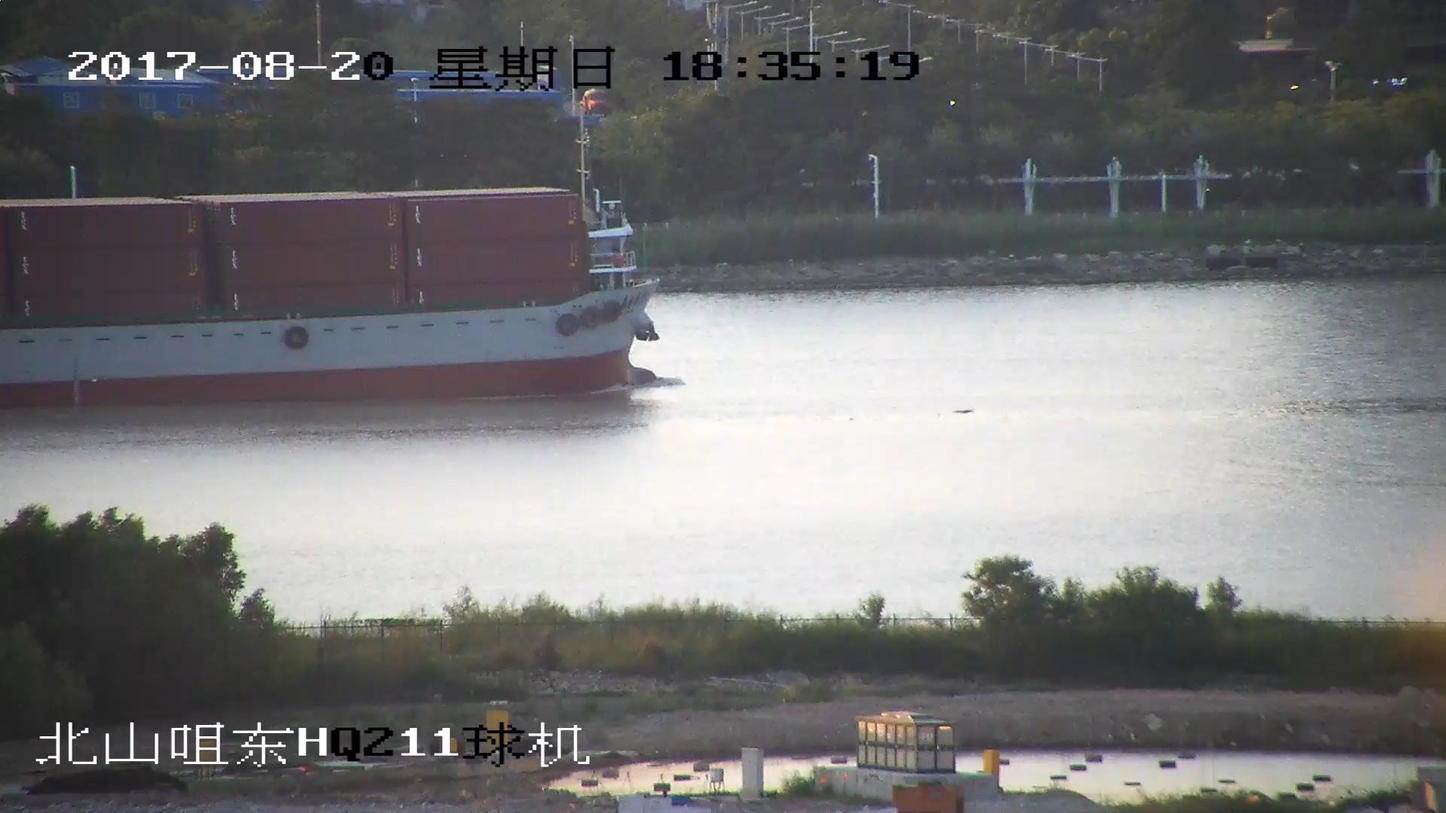container ship: (0, 185, 659, 395)
